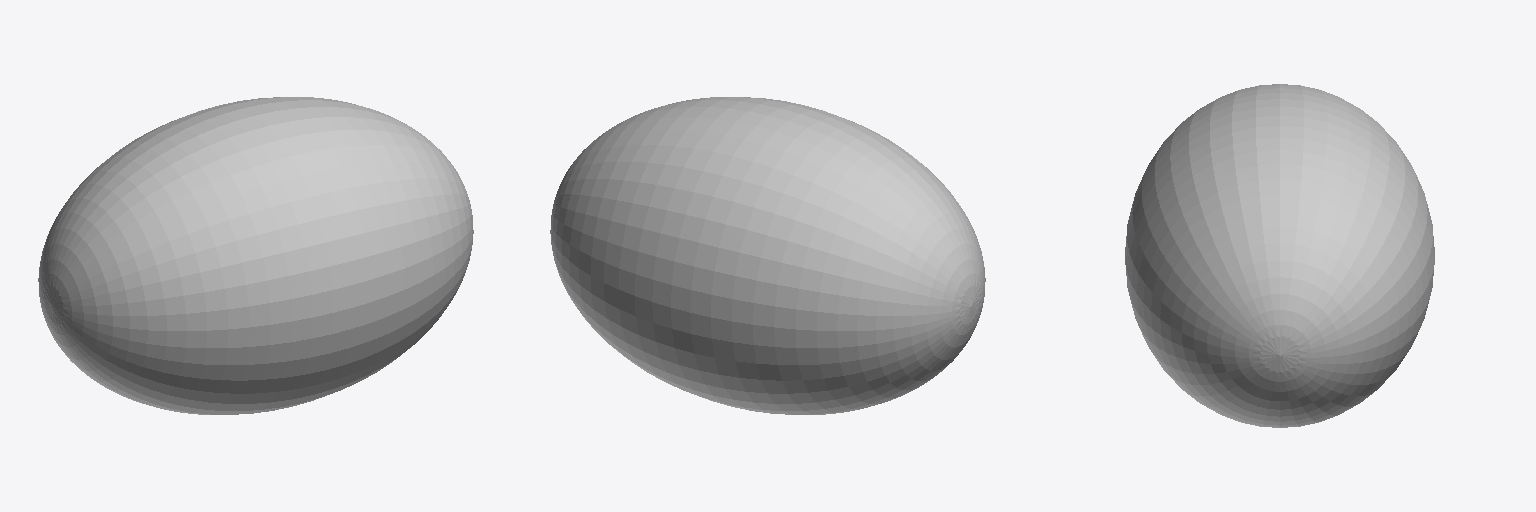
File: watermelon.obj
3 renders of one model, left to right at view 1: azimuth 30°, elevation 25°; view 2: azimuth 150°, elevation 25°; view 3: azimuth 270°, elevation 25°, orthographic.
Parts seen in each view (by area): view 1: Sphere; view 2: Sphere; view 3: Sphere.
Boxes of the visible parts, <box> form: Sphere: <box>38,97,473,414</box>; Sphere: <box>550,97,985,414</box>; Sphere: <box>1125,84,1434,427</box>.
Size of the model in its own units: 2.97 by 1.95 by 1.95.